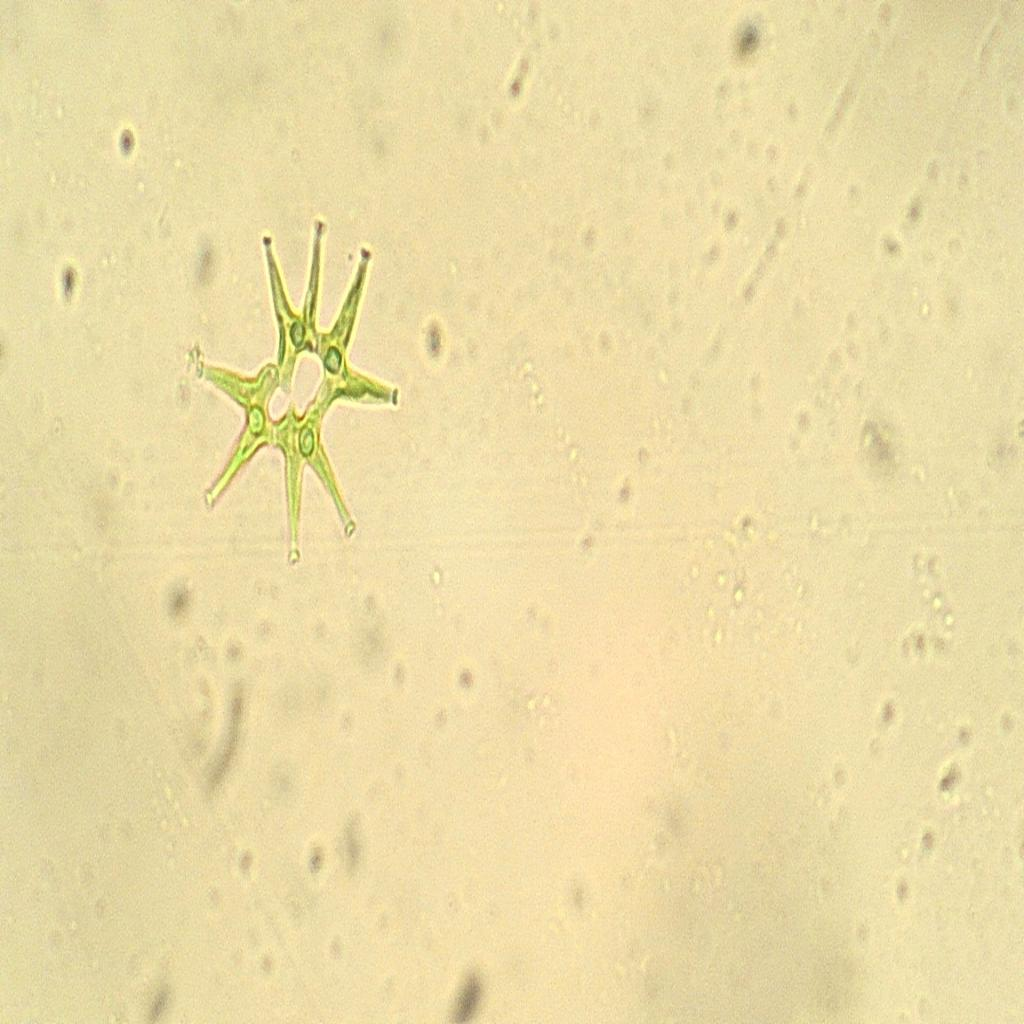Pediastrum_75FO: (180, 197, 427, 579)
